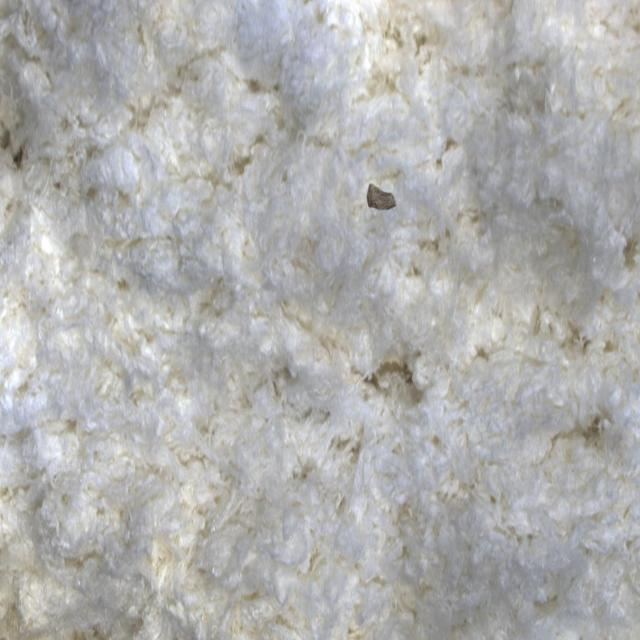dust: (347, 146, 414, 239)
